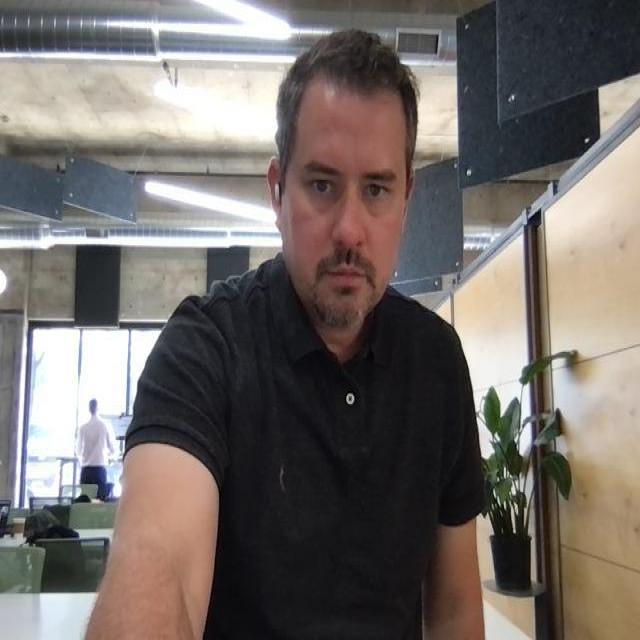face: (264, 26, 419, 326)
